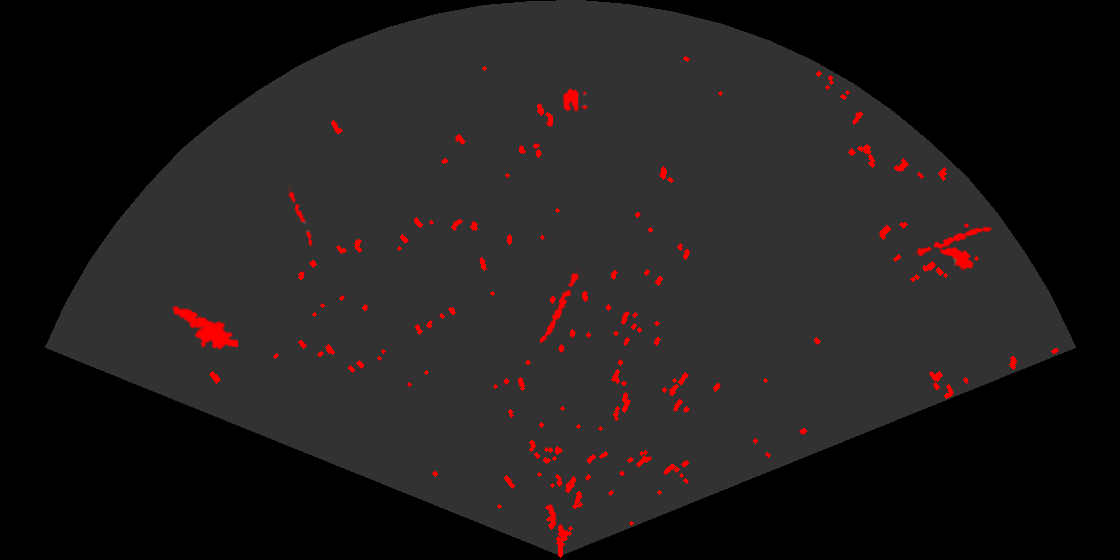AUV: (938, 245, 976, 271)
ball: (561, 87, 589, 114)
chain: (538, 268, 582, 345), (909, 225, 993, 258), (285, 187, 314, 248)
frogman: (171, 304, 238, 351)
